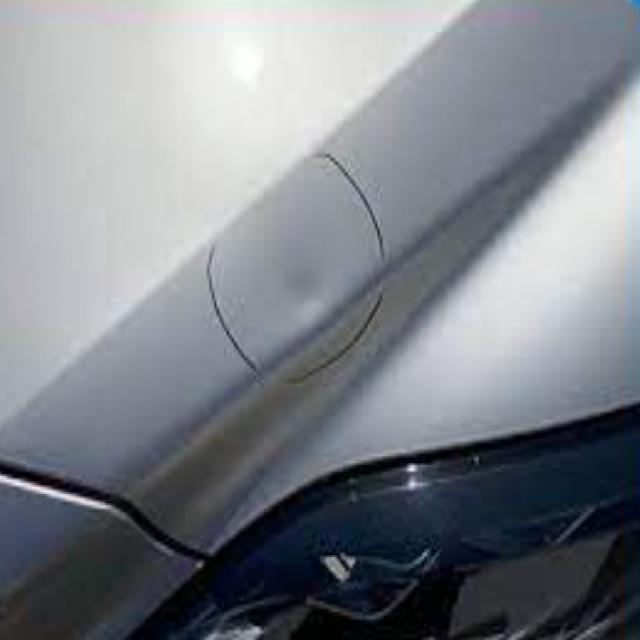dents: (266, 260, 370, 335)
